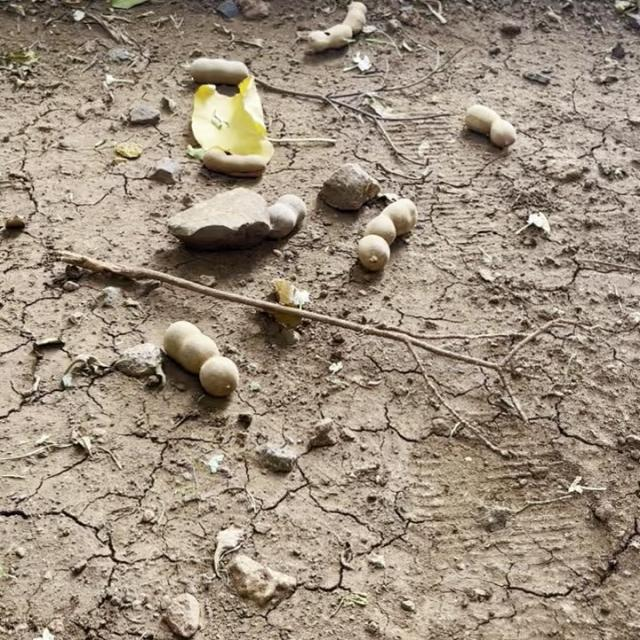tamarind: (160, 322, 238, 392), (353, 198, 414, 266), (297, 0, 370, 44), (458, 101, 516, 145), (186, 51, 252, 81), (270, 194, 306, 237)
